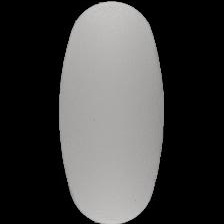43353-001: (0, 0, 224, 224)
